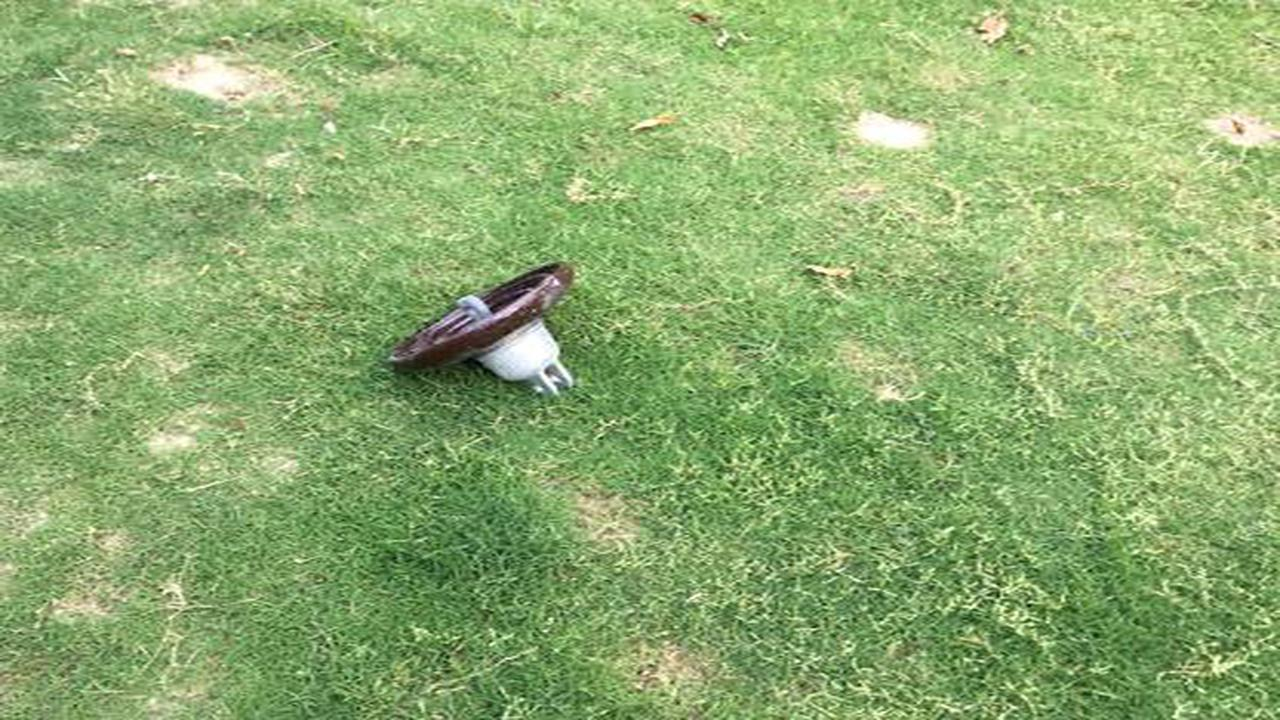insulator_disc: (384, 256, 580, 410)
